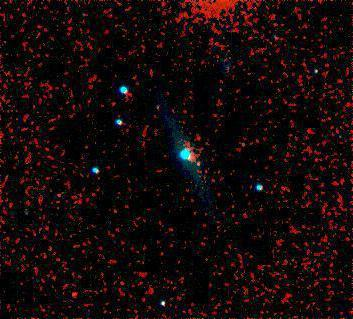star: (60, 279, 90, 309)
